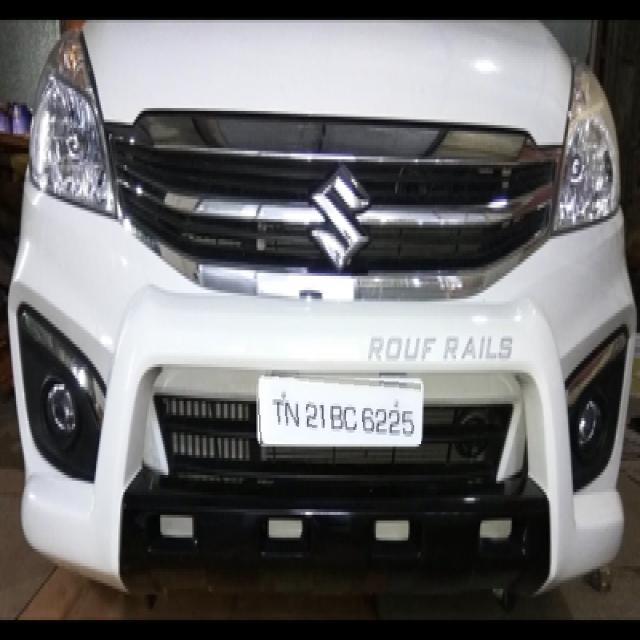licence: (256, 372, 421, 444)
